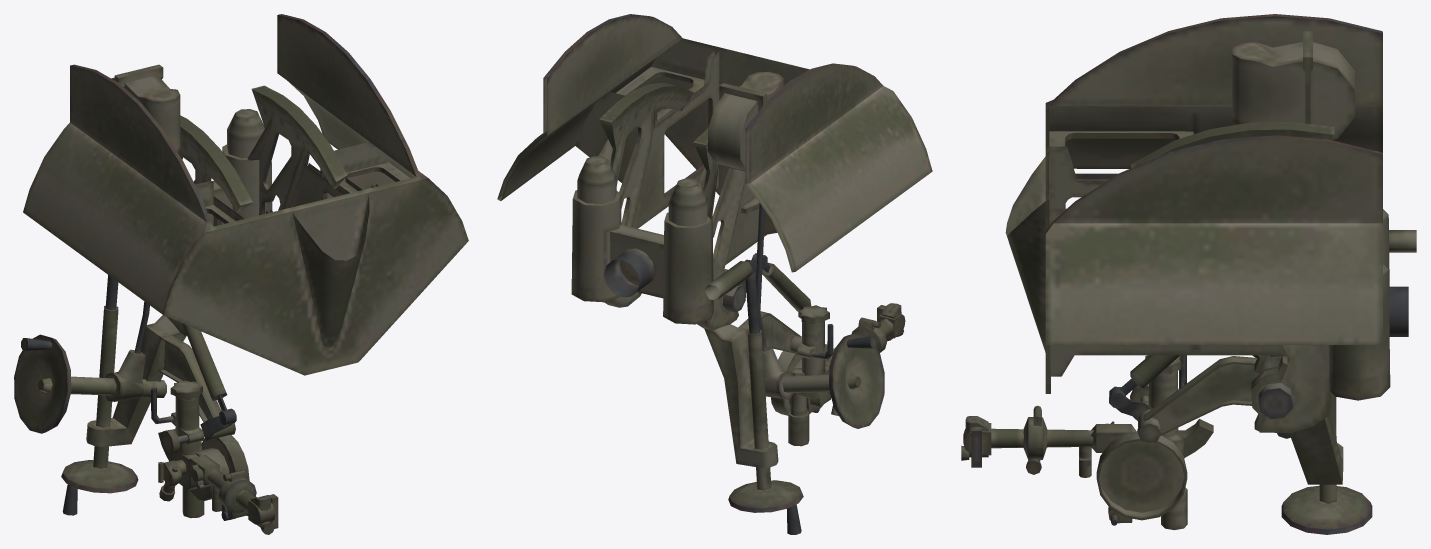
File: Turret_01.glb
3 renders of one model, left to right at view 1: azimuth 30°, elevation 25°; view 2: azimuth 150°, elevation 25°; view 3: azimuth 270°, elevation 25°, orthographic. The views are drawn at different scales.
Visible parts, largest first — view 1: set_0_group_0; view 2: set_0_group_0; view 3: set_0_group_0.
Boxes of the visible parts, left/top/right/bottom form: set_0_group_0: left=14, top=14, right=468, bottom=534; set_0_group_0: left=497, top=14, right=932, bottom=534; set_0_group_0: left=961, top=14, right=1416, bottom=534.
Size of the model in its own units: 0.9011 by 1.09 by 0.8566.
1 material, 1 textured.
